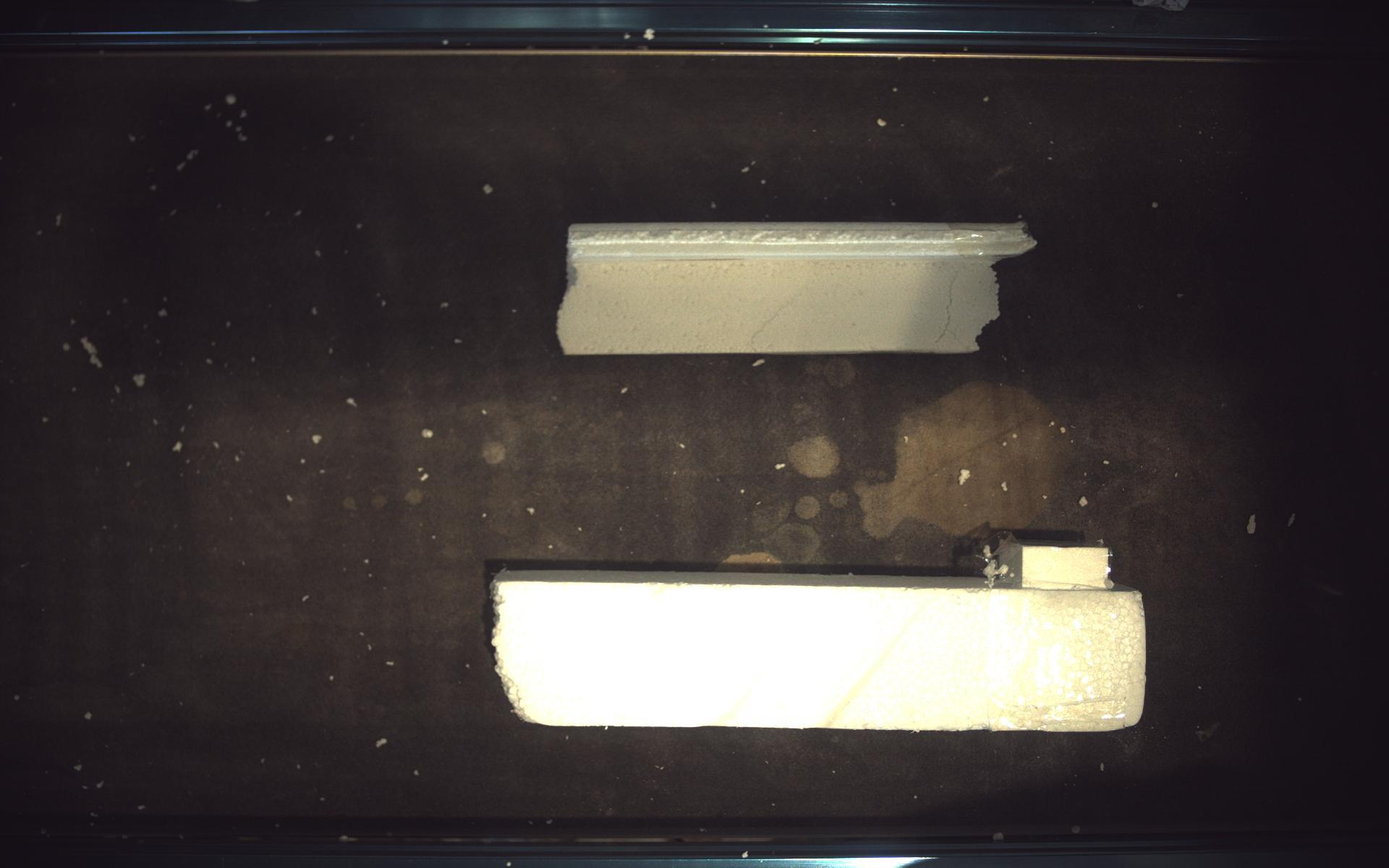foam: (491, 535, 1149, 733), (558, 221, 1037, 354)
